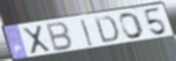5: (142, 6, 169, 36)
B: (45, 21, 74, 53)
D: (93, 15, 120, 44)
I: (79, 18, 94, 47)
O: (119, 11, 145, 40)
X: (21, 24, 53, 56)
